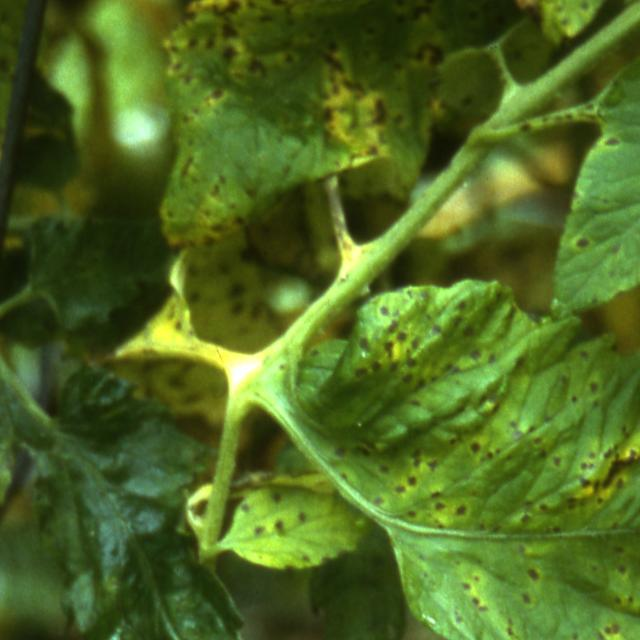Tomato Septoria leaf spot: (212, 238, 640, 640), (508, 0, 640, 337), (0, 553, 345, 640)
